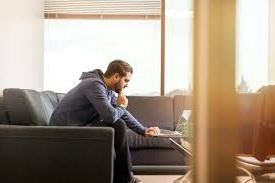not_fallen: (50, 57, 160, 183)
